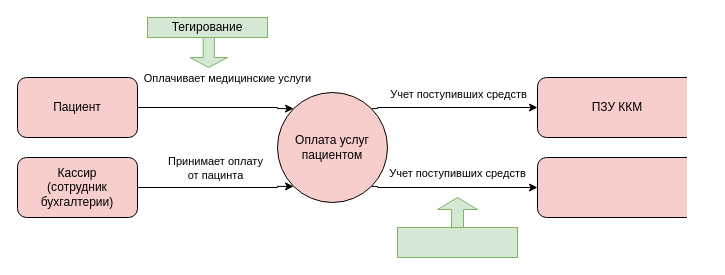
This 725x275 diagram has some shape labels left out. The box of each missing label's shape, as (x1, y1, x2, y2) in pixels:
1С: Бухгалтерия предприятия Клиент-серверный режим: (536, 156, 698, 218)
Разграничение доступа: (396, 226, 518, 258)
